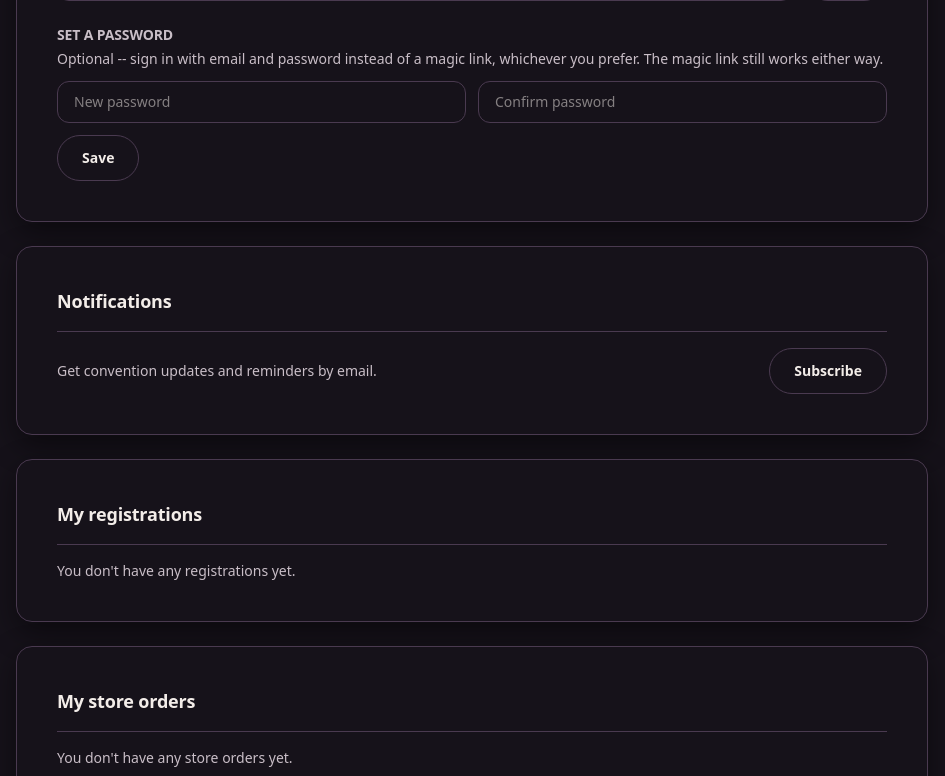
Test: AccountPage › renders the Notifications card unsubscribed by default, and subscribes on click
This screenshot has width=945, height=776.
(page scrolled)
Expected: the text "Get convention updates and reminders by email." is shown, [57,361,377,381]
Click the button "Subscribe" at (828, 371), box [769,348,887,394]
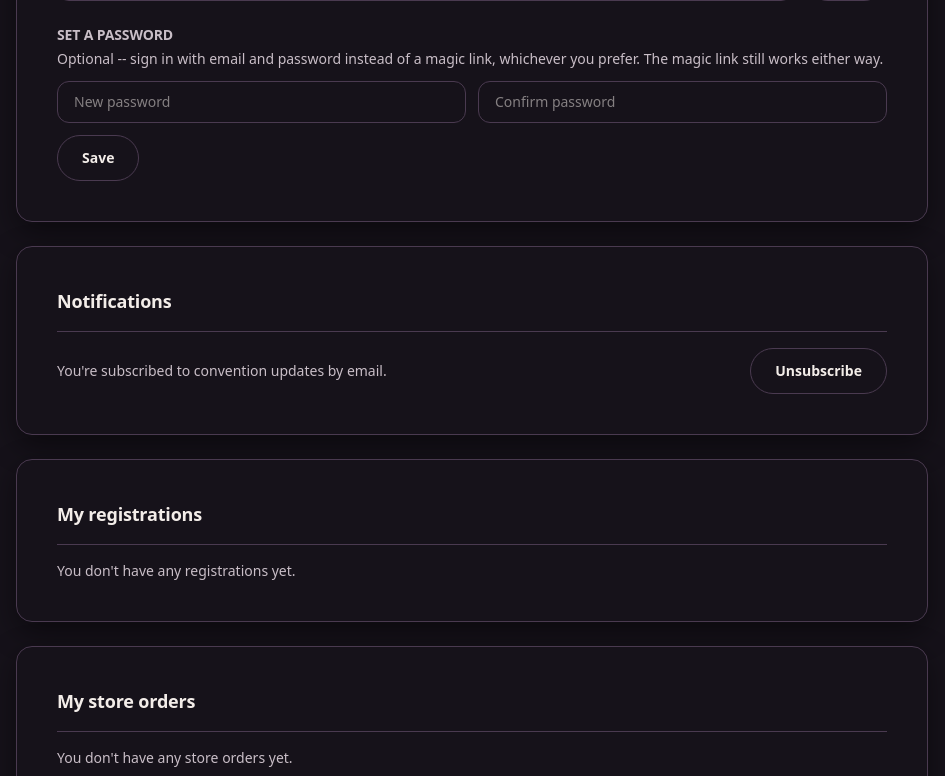
Result: the text "You're subscribed to convention updates by email." is shown at [57,361,387,381]
